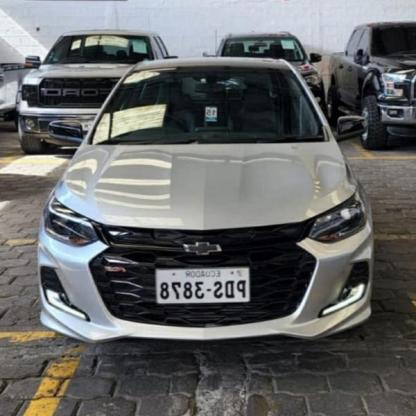Placa: (155, 266, 252, 304)
